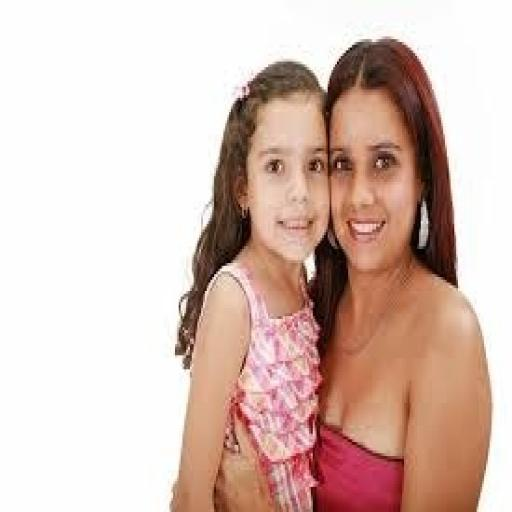hugging: (311, 34, 495, 509), (166, 56, 333, 509)
